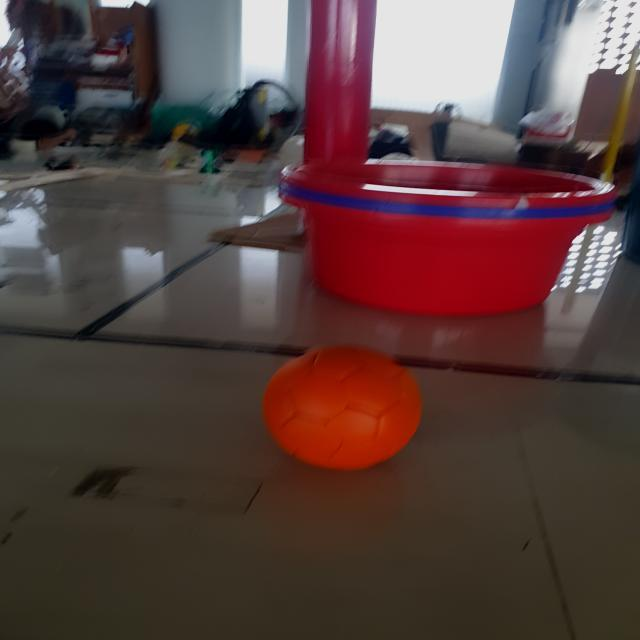bola: (257, 337, 427, 475)
